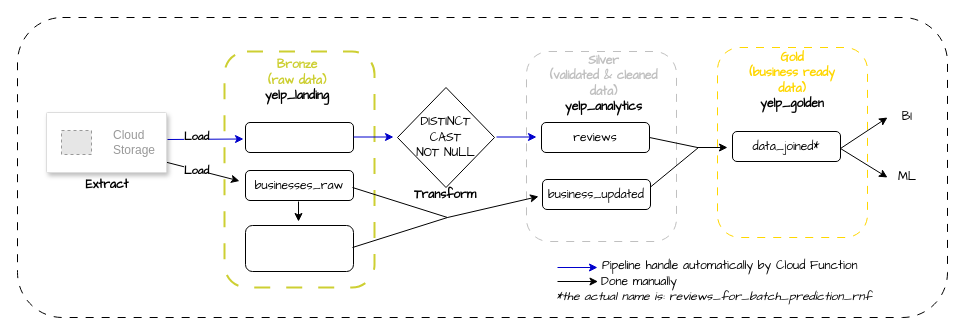
Some shapes in this 965 by 335 pixel diagram are drawn without their labels. Grey dashed boxes stand in for pictures. Each missing label, with the centre of its shape:
"business_category _mapping_fw" goes at point 299,248.
"reviews_raw" goes at point 299,137.
